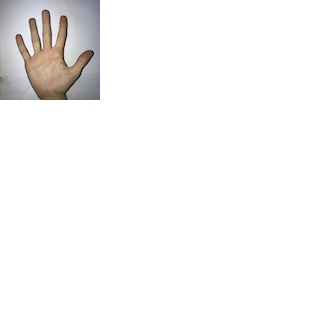paper: (12, 6, 94, 97)
